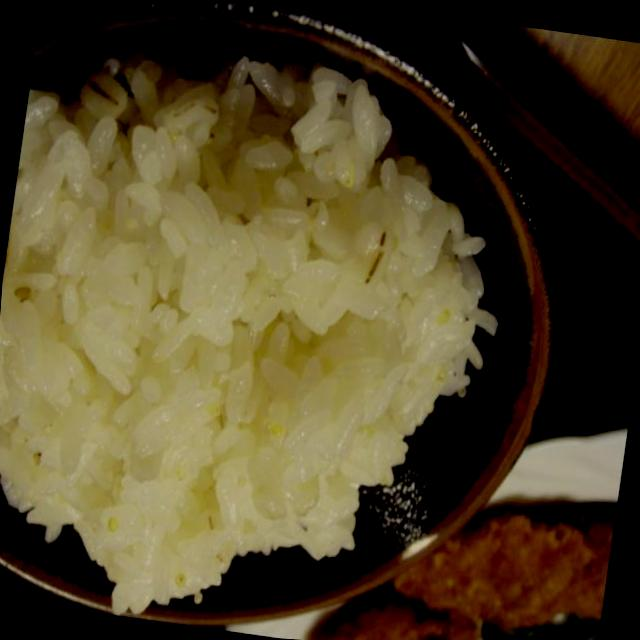Rice: (0, 84, 479, 640)
